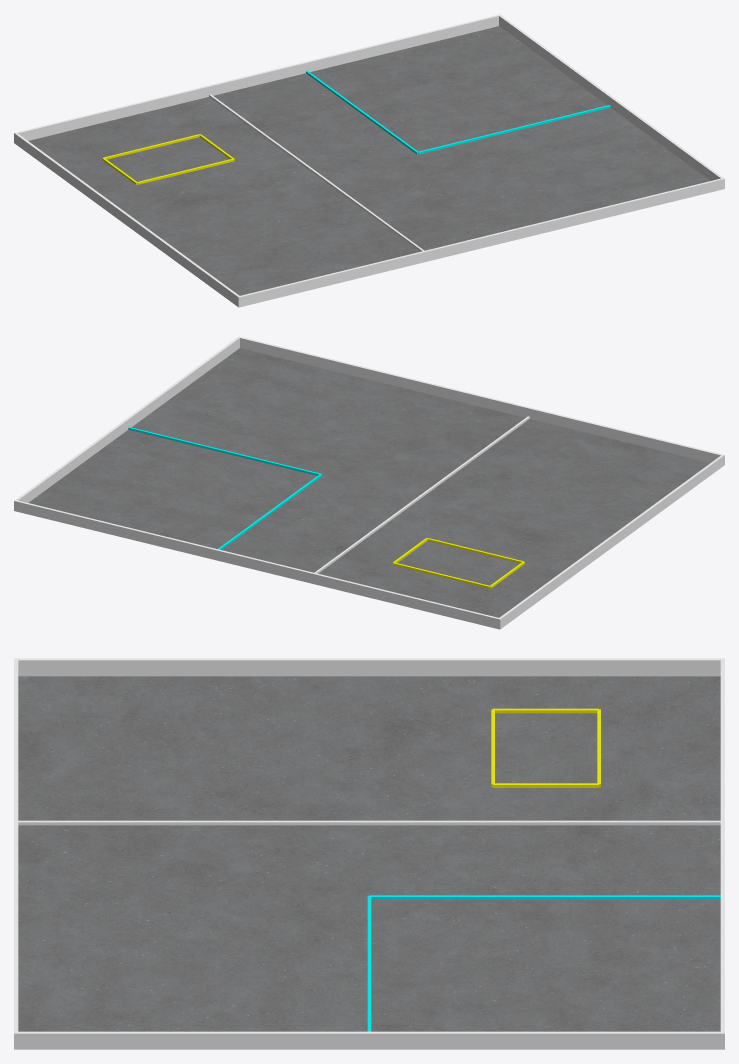
File: lab_arena.glb
3 views of the same model, one above another, from view 1: azimuth 30°, elevation 25°; view 2: azimuth 150°, elevation 25°; view 3: azimuth 270°, elevation 25° (orthographic). The views are drawn at different scales.
Visible parts, largest first — view 1: Lab_Arena_Combined_Mesh; view 2: Lab_Arena_Combined_Mesh; view 3: Lab_Arena_Combined_Mesh.
Boxes of the visible parts, bbox=[...] form: Lab_Arena_Combined_Mesh: bbox=[14, 14, 724, 307]; Lab_Arena_Combined_Mesh: bbox=[14, 336, 724, 629]; Lab_Arena_Combined_Mesh: bbox=[14, 658, 724, 1049].
Bounding box in the file's own units: 5.03 × 0.1 × 4.03.
4 materials, 1 textured.
